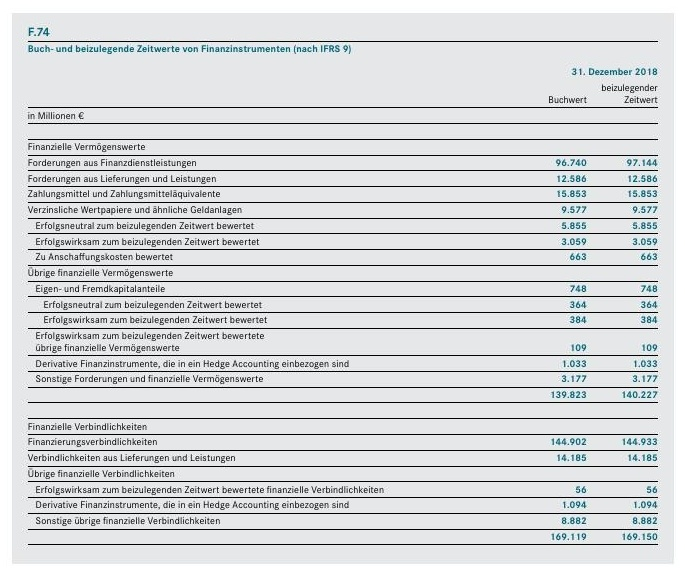table: (0, 0, 685, 574)
